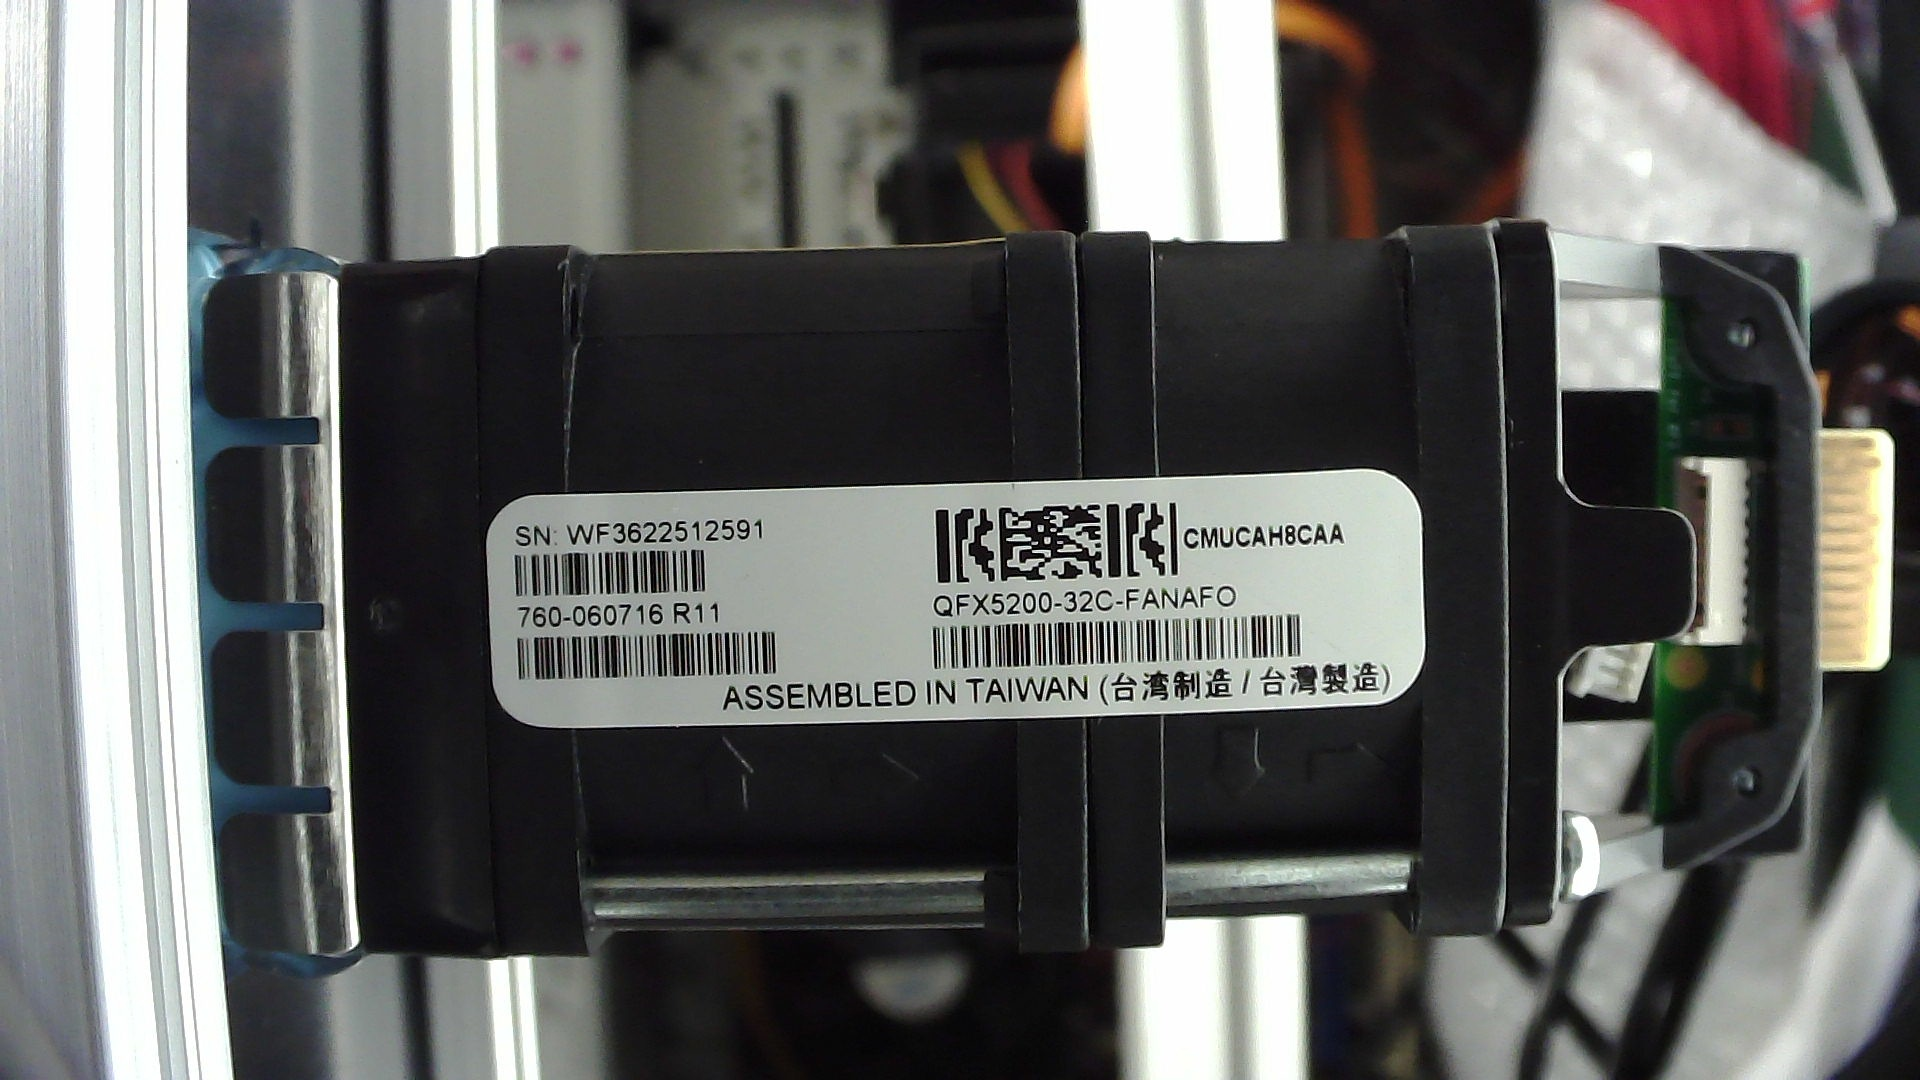6_3: (1633, 427, 1763, 673)
